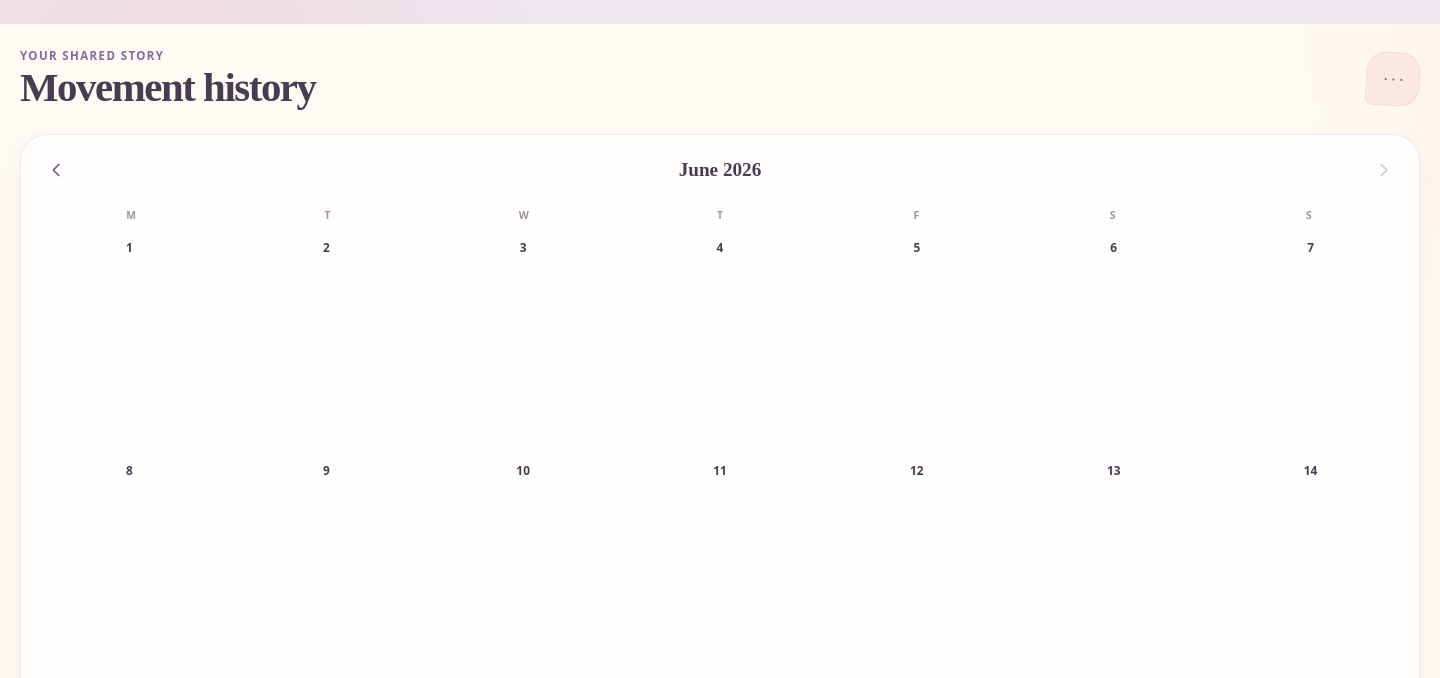
Test: HistoryView › keeps backup controls tucked inside the history menu
Expected: the heading "Backup & restore" is not shown
Click the heading named "Backup and restore menu" at (1393, 79), box [1365, 50, 1421, 107]
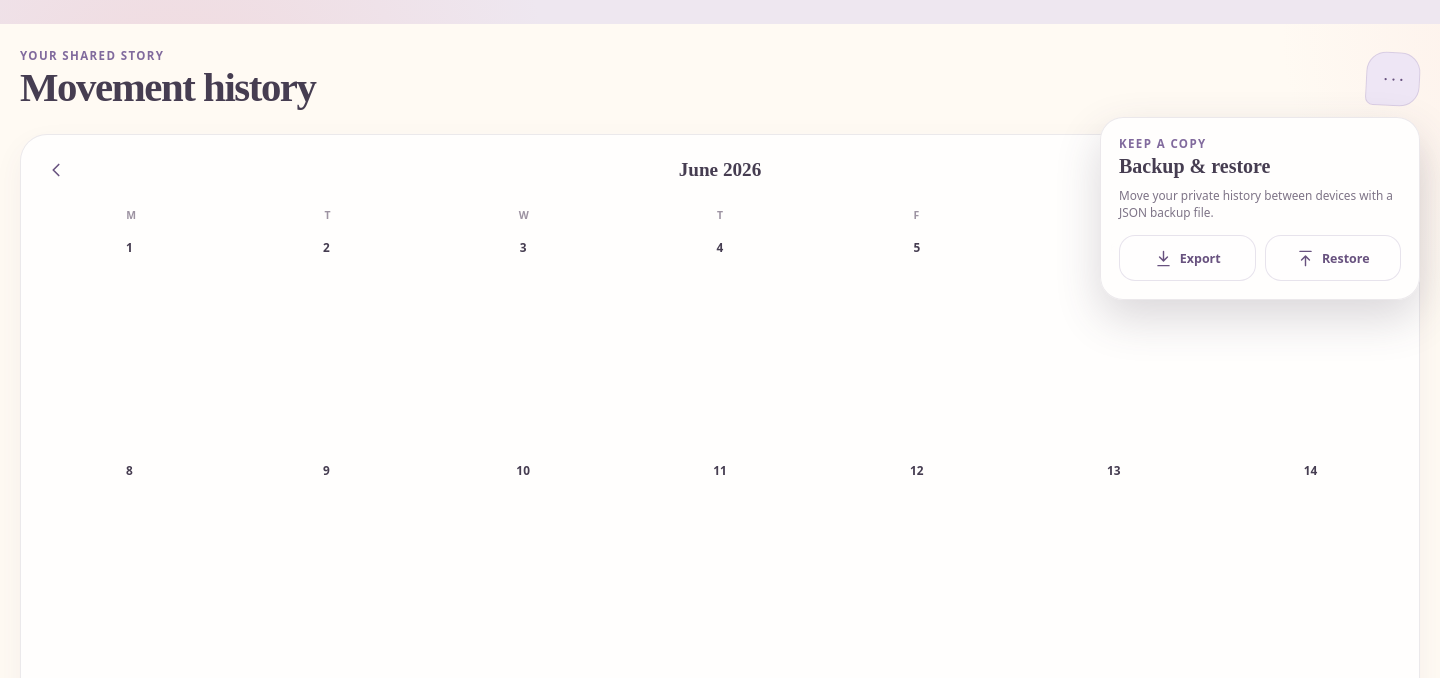
Expected: the heading "Backup & restore" is shown, [1119, 155, 1270, 177]
Expected: the button "Export" is shown, [1119, 235, 1256, 281]
